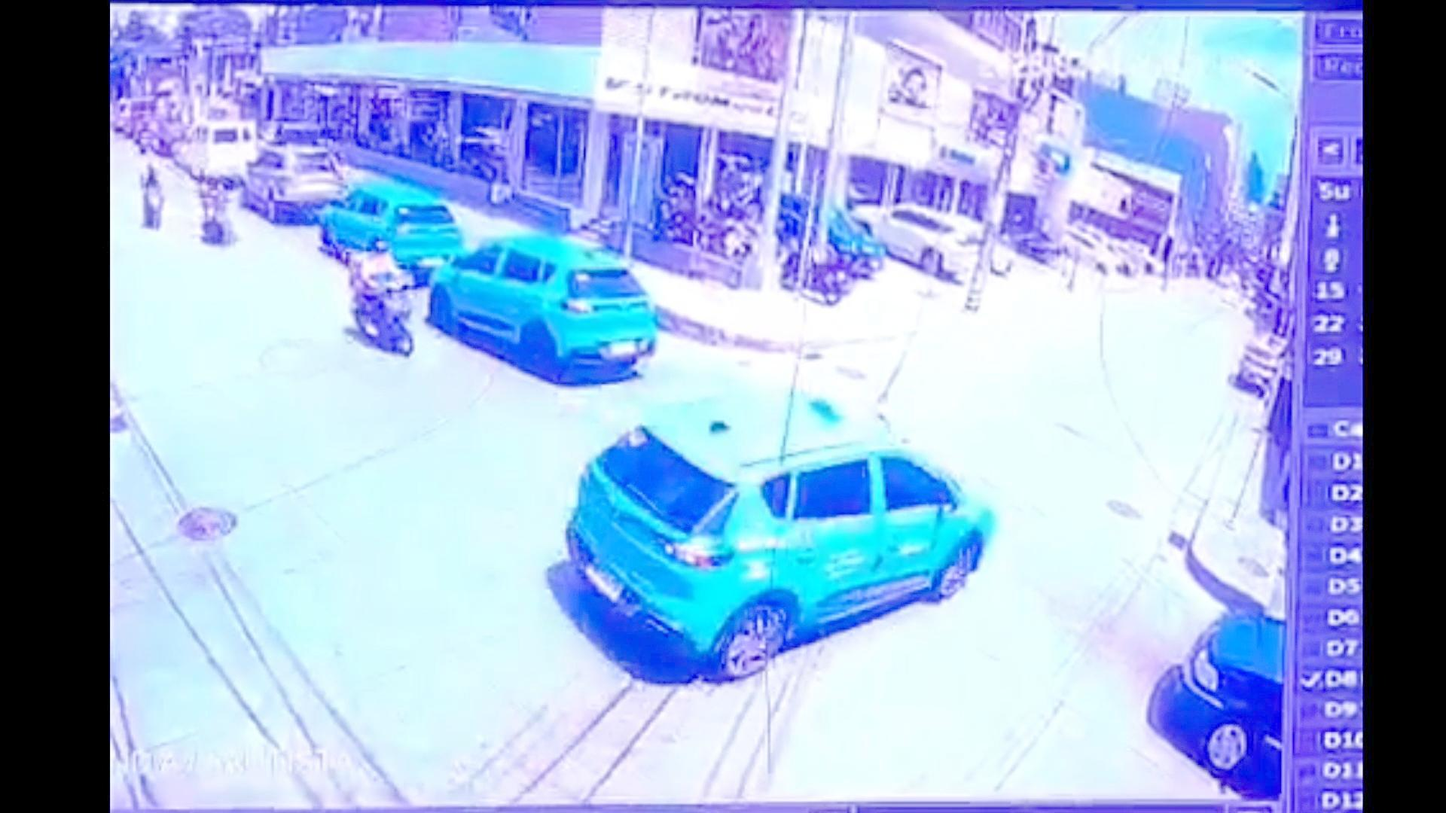Car: (571, 402, 991, 670), (428, 230, 656, 381), (1179, 591, 1284, 774), (322, 181, 459, 283), (855, 194, 990, 285), (759, 189, 881, 280), (245, 144, 340, 222), (185, 117, 254, 182), (1239, 326, 1279, 406), (1060, 228, 1115, 280)
Minor Accident: (568, 401, 992, 669)
Motor: (859, 403, 991, 525), (351, 239, 424, 363), (780, 234, 845, 304), (192, 165, 241, 241), (1010, 223, 1062, 274), (142, 159, 168, 231)
